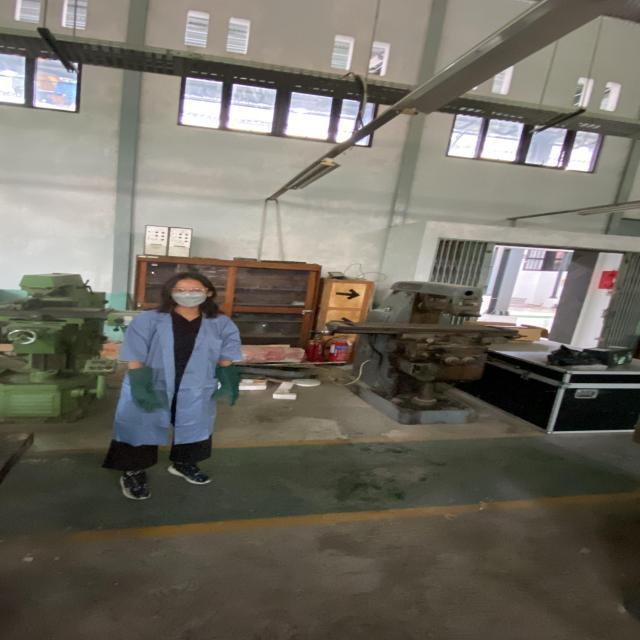glasses: (165, 286, 212, 295)
